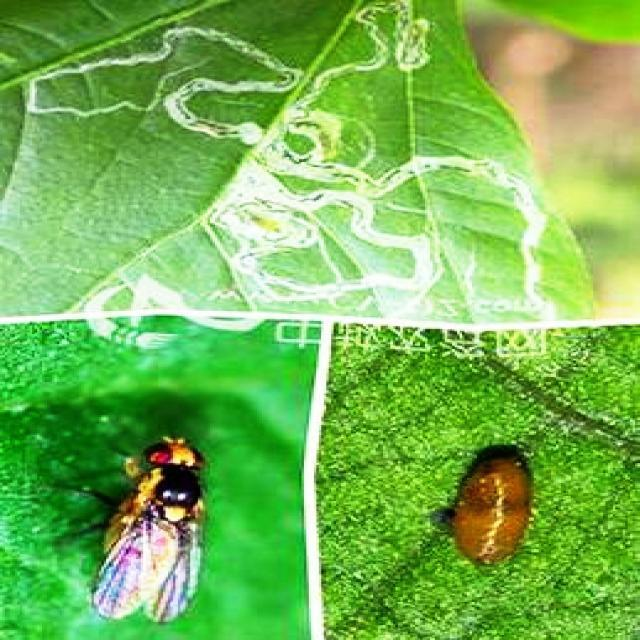whorl-maggot: (448, 436, 542, 574)
